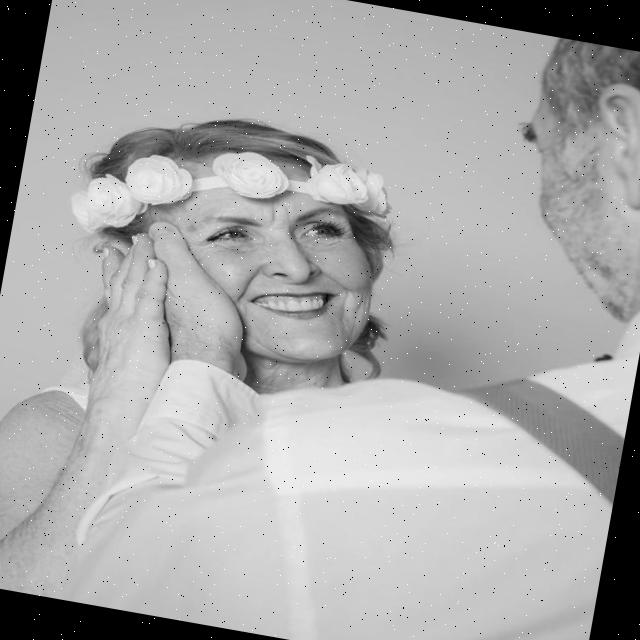Happiness: (156, 150, 396, 373)
